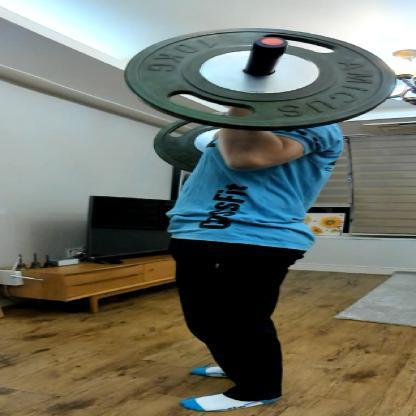barbell: (124, 25, 398, 175)
